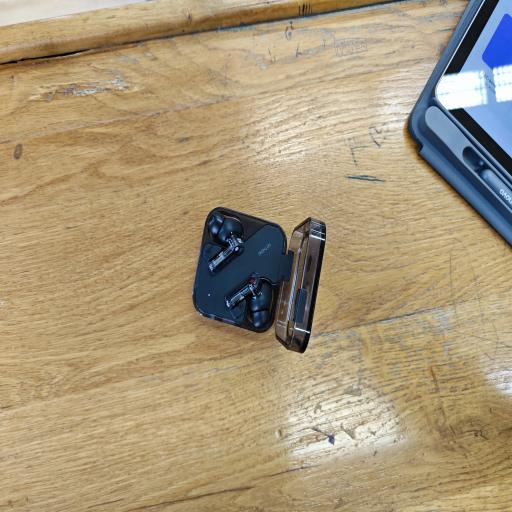Headphones: (187, 203, 333, 361)
